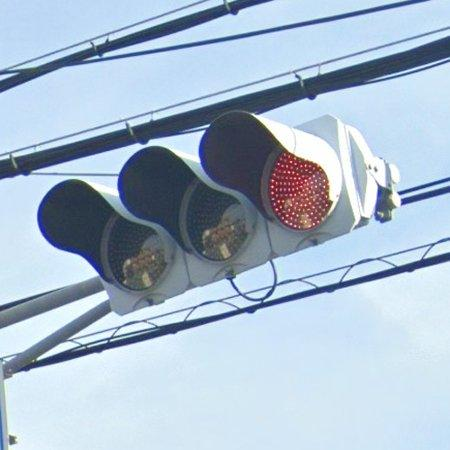traffic lights: (36, 110, 400, 316)
